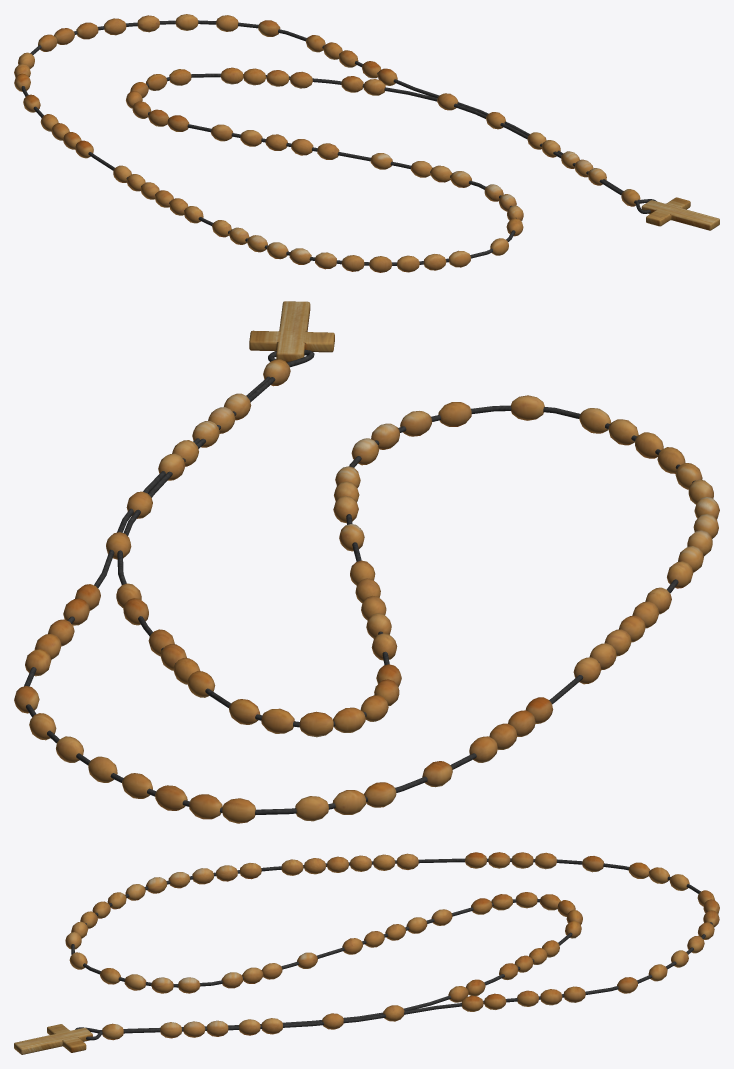
File: rosary_-_historic_environment_scotland.fbx
The picture shows the model from 3 angles, top to bottom: view 1: azimuth 30°, elevation 25°; view 2: azimuth 150°, elevation 25°; view 3: azimuth 270°, elevation 25°; orthographic projection. The views are drawn at different scales.
Parts seen in each view (by area): view 1: Object_2, Object_3, Object_4; view 2: Object_2, Object_3, Object_4; view 3: Object_2, Object_3, Object_4.
Part boxes in pixels (x1=…): Object_2: x1=14, y1=14, x2=640, y2=272; Object_3: x1=21, y1=20, x2=656, y2=265; Object_4: x1=641, y1=197, x2=719, y2=230; Object_2: x1=14, y1=359, x2=719, y2=823; Object_3: x1=24, y1=349, x2=695, y2=814; Object_4: x1=249, y1=301, x2=334, y2=362; Object_2: x1=65, y1=852, x2=719, y2=1040; Object_3: x1=71, y1=858, x2=712, y2=1040; Object_4: x1=14, y1=1024, x2=92, y2=1054.
Bounding box in the file's own units: 130 × 4.67 × 198.
Materials: 3 (3 with a texture image).
